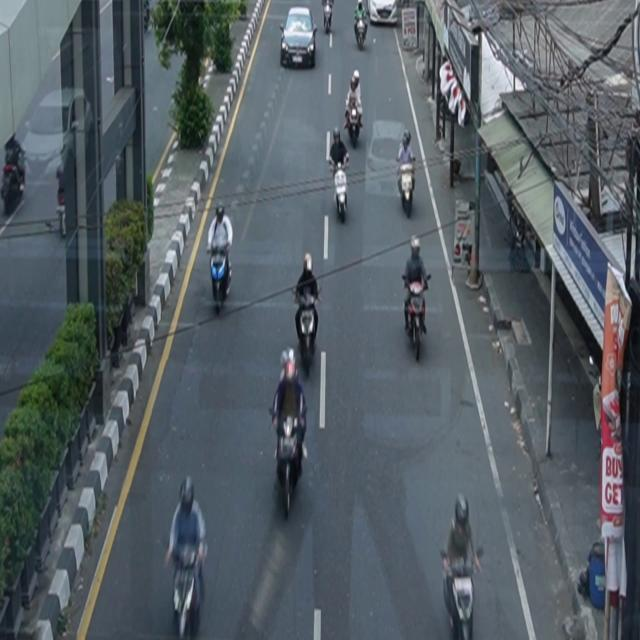car: (280, 7, 318, 69)
